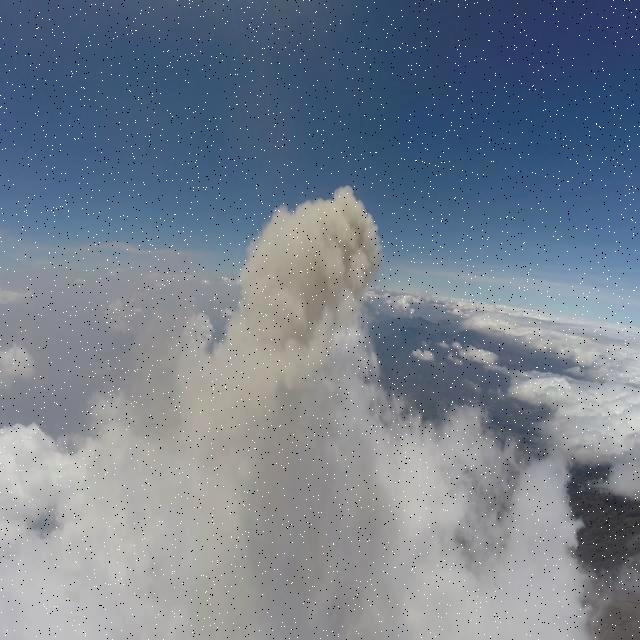Plume: (176, 178, 387, 458)
